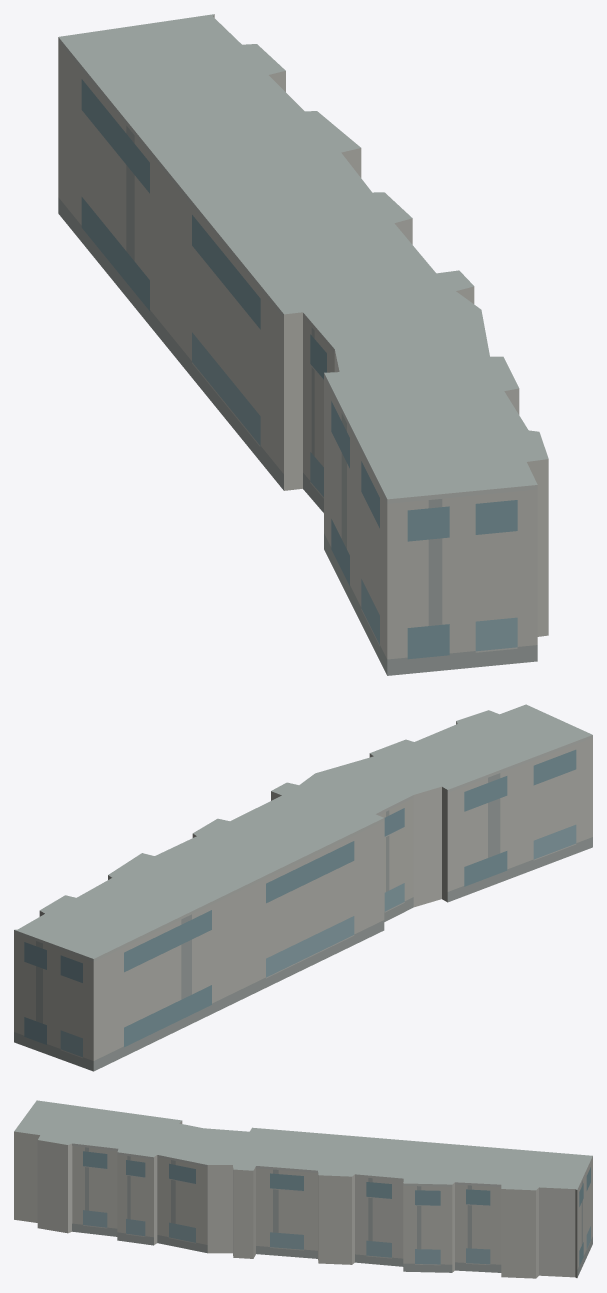
File: survey-upis-32691251.glb
3 renders of one model, top to bottom at view 1: azimuth 30°, elevation 25°; view 2: azimuth 150°, elevation 25°; view 3: azimuth 270°, elevation 25°, orthographic. The views are drawn at different scales.
Parts seen in each view (by area): view 1: survey-upis-32691251.tmp; view 2: survey-upis-32691251.tmp; view 3: survey-upis-32691251.tmp.
Boxes of the visible parts, x1,y1,x2,y2 form: survey-upis-32691251.tmp: [58, 14, 548, 675]; survey-upis-32691251.tmp: [14, 704, 592, 1071]; survey-upis-32691251.tmp: [14, 1100, 592, 1278].
Bounding box in the file's own units: 20.02 × 9.15 × 54.4.
